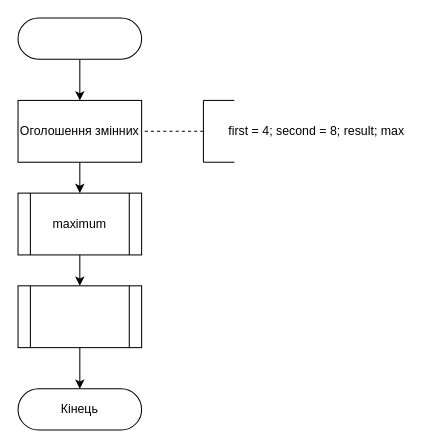
Image size: 438x448. Some labels were removed from this diagram. Here are the shapes that lost their labels. From the top down, the centre of each, then its label:
At point (79, 38): "Поочаток".
At point (79, 316): "cycle".
